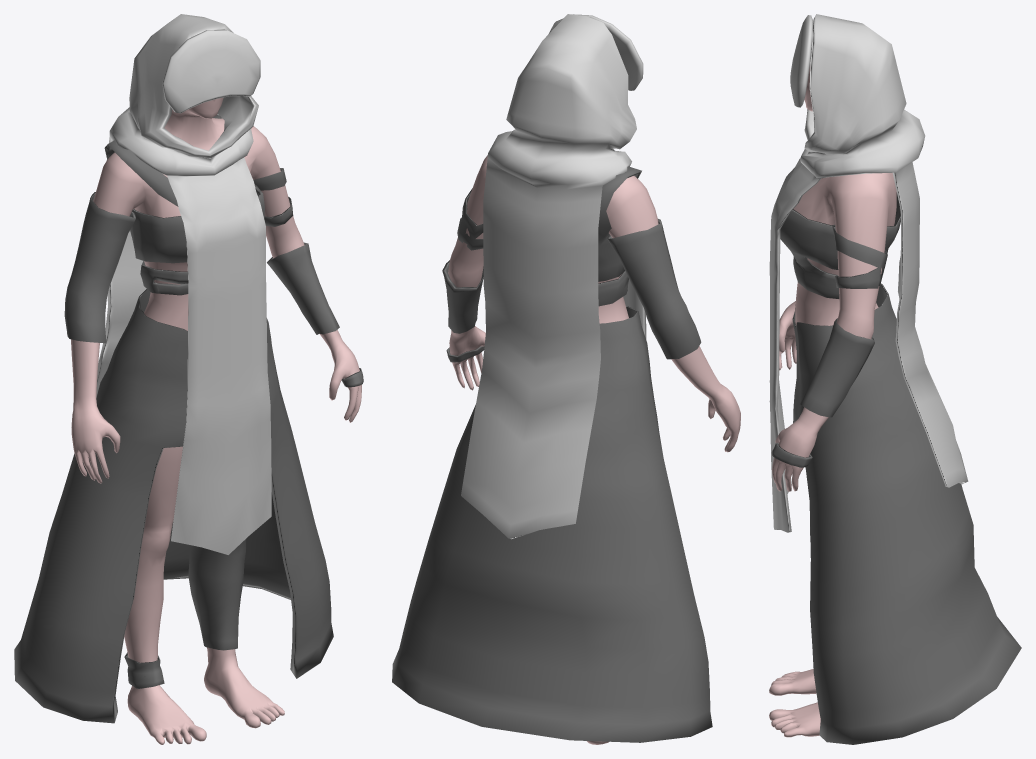
File: rp_character_cultist_bandage_uv2.fbx
The picture shows the model from 3 angles, left to right: view 1: azimuth 30°, elevation 25°; view 2: azimuth 150°, elevation 25°; view 3: azimuth 270°, elevation 25°; orthographic projection.
Visible parts, largest first — view 1: polySurface9; view 2: polySurface9; view 3: polySurface9.
Boxes of the visible parts, x1,y1,x2,y2 form: polySurface9: [14, 14, 363, 744]; polySurface9: [392, 14, 740, 744]; polySurface9: [769, 14, 1021, 744].
Size of the model in its own units: 118 by 263 by 87.39.
